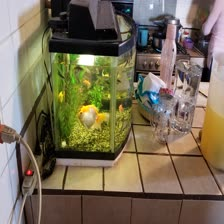Cuezo: (74, 104, 110, 129)
